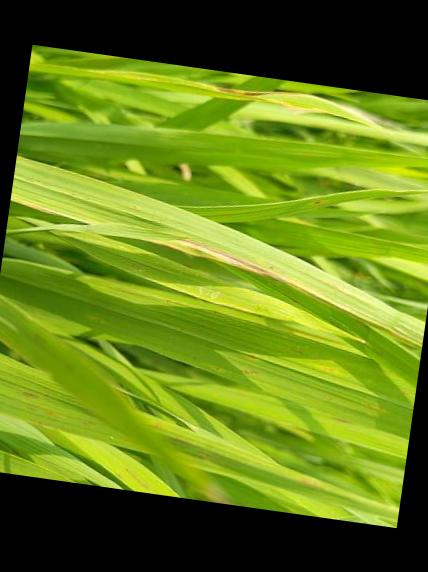Leaf Blight: (68, 199, 423, 343), (84, 68, 378, 125)
